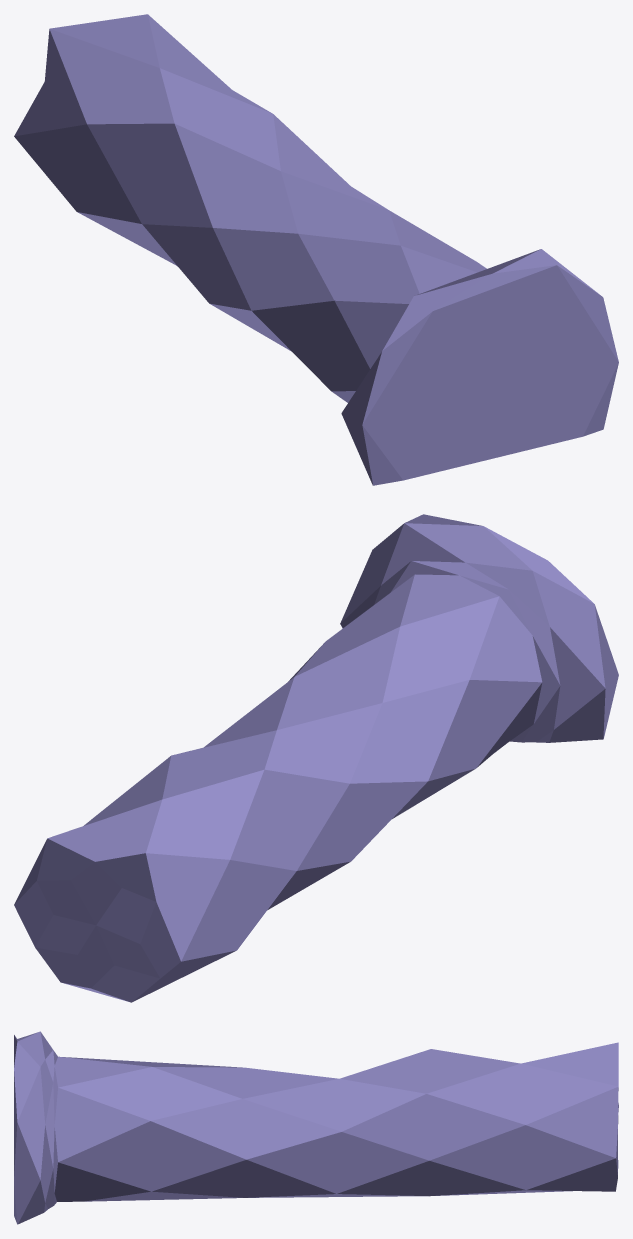
Rendered from ENV_pillar-fallen_Placeholder2.fbx.
3 views of the same model, one above another, from view 1: azimuth 30°, elevation 25°; view 2: azimuth 150°, elevation 25°; view 3: azimuth 270°, elevation 25° (orthographic). The views are drawn at different scales.
Visible parts, largest first — view 1: Column.007; view 2: Column.007; view 3: Column.007.
Part boxes in pixels (x1=…): Column.007: x1=14, y1=14, x2=618, y2=485; Column.007: x1=14, y1=514, x2=618, y2=1002; Column.007: x1=14, y1=1031, x2=618, y2=1224.
Bounding box in the file's own units: 398 × 155 × 102.
